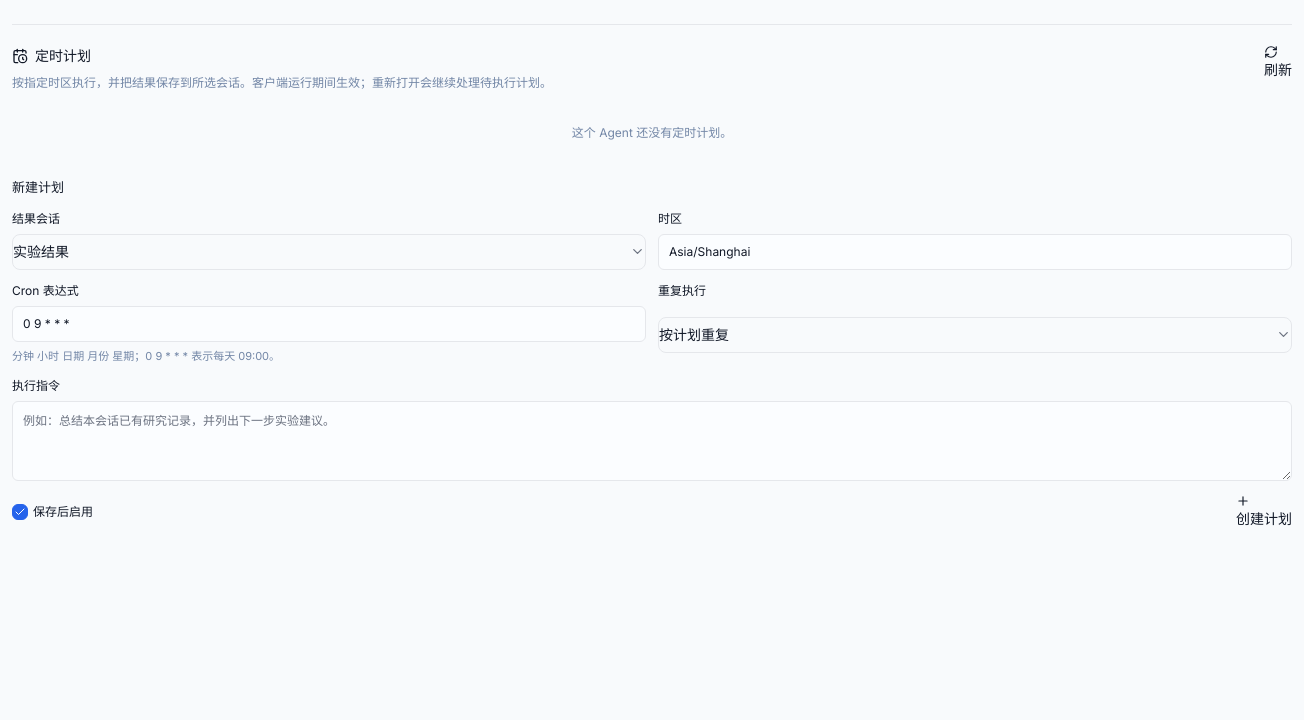
AgentSchedulesPanel › keeps the instruction available for retry when saving fails
Expected: the dropdown named "结果会话" is enabled, [12,234,646,270]
Type "保留待保存指令" into the text box labelled "执行指令". click: x=652, y=441
box: [12,401,1292,481]
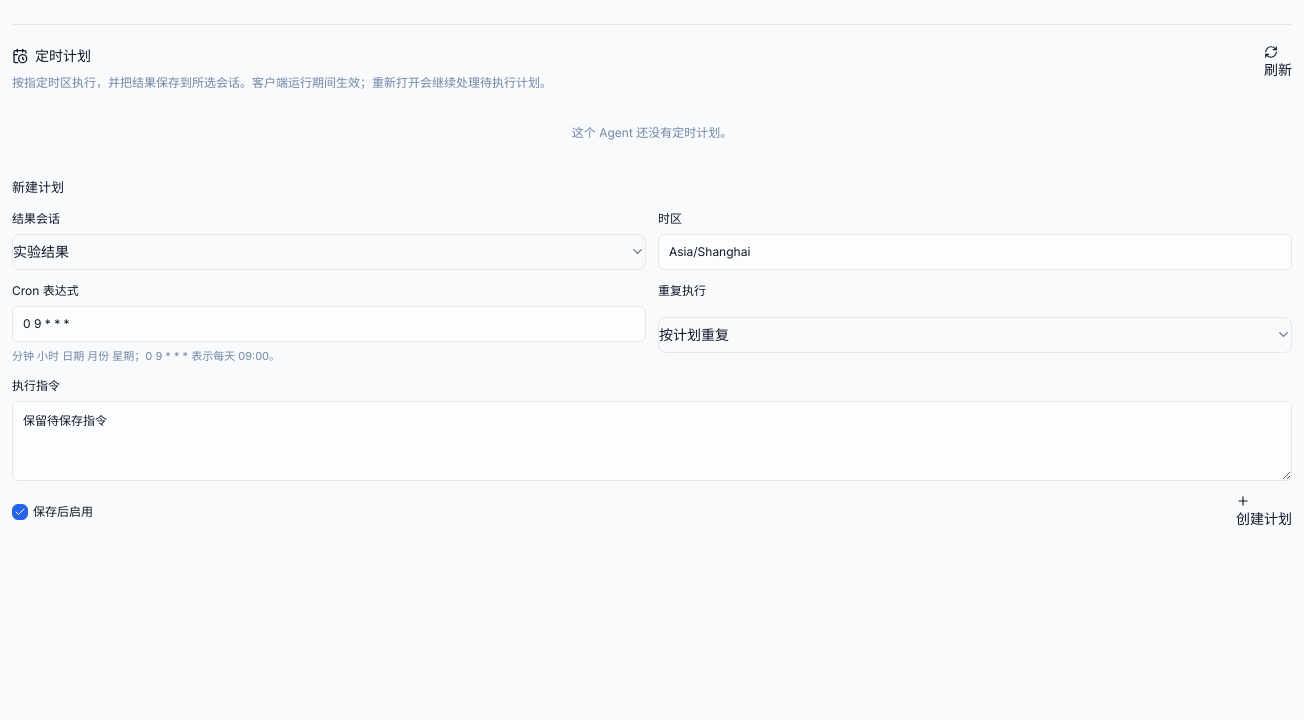
Click the button "创建计划". click: x=1264, y=512
box: [1236,494,1292,529]
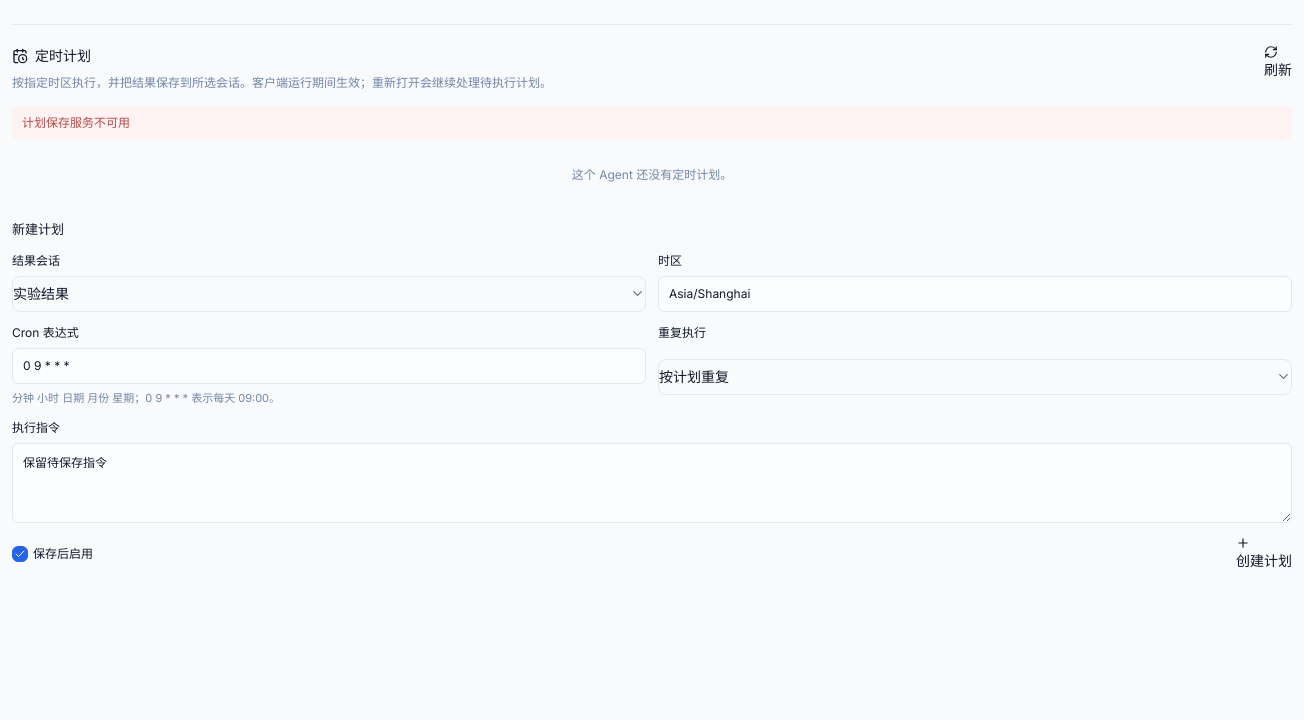
Expected: the button "创建计划" is enabled, [1236,536,1292,571]
Expected: the message reads "计划保存服务不可用", [22,115,130,130]
